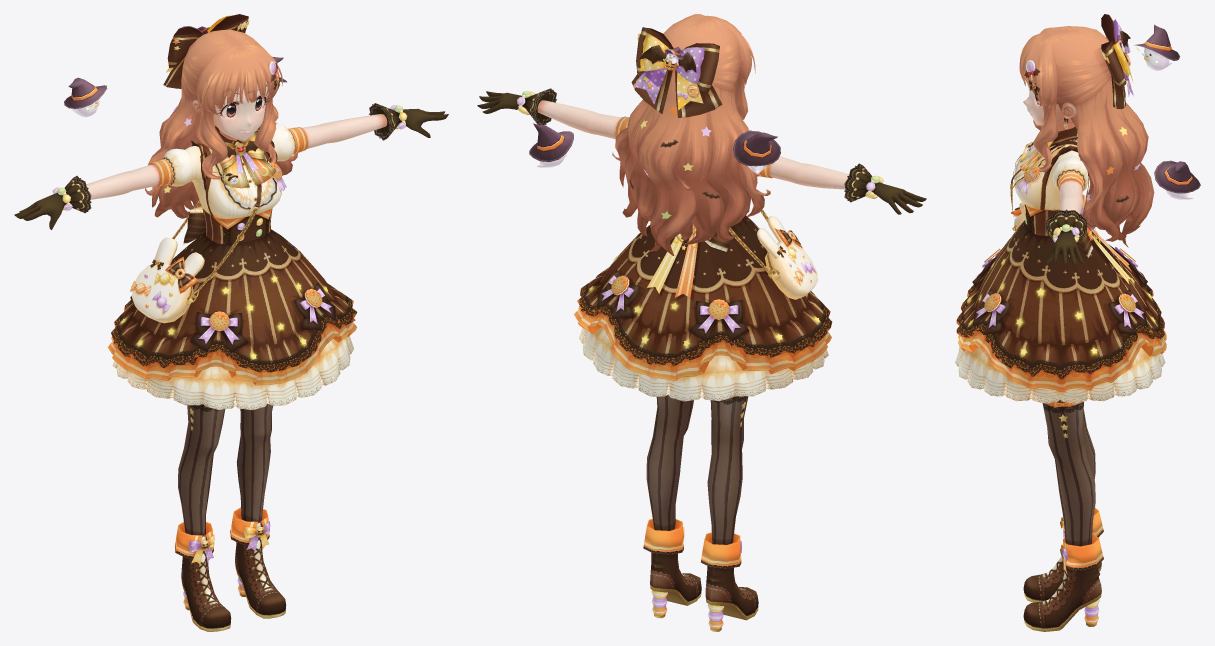
Rendered from kiari.glb.
3 views of the same model, side by side, from view 1: azimuth 30°, elevation 25°; view 2: azimuth 150°, elevation 25°; view 3: azimuth 270°, elevation 25° (orthographic). The views are drawn at different scales.
Parts seen in each view (by area): view 1: Object_2, Object_4, Object_6; view 2: Object_2, Object_4, Object_6; view 3: Object_2, Object_4, Object_6.
Boxes of the visible parts, x1,y1,x2,y2 form: Object_2: (14,57,448,631); Object_4: (145,21,297,218); Object_6: (163,14,248,88); Object_2: (477,88,926,631); Object_4: (612,14,770,255); Object_6: (631,27,722,117); Object_2: (955,24,1200,631); Object_4: (1019,26,1154,247); Object_6: (1063,14,1133,129).
Bounding box in the file's own units: 1.49 × 1.91 × 0.7311.
6 materials, 6 textured.
